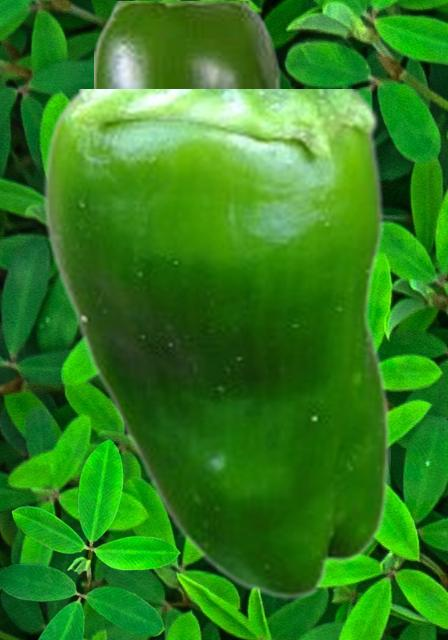green_chili: (41, 89, 389, 599), (94, 1, 283, 88)
